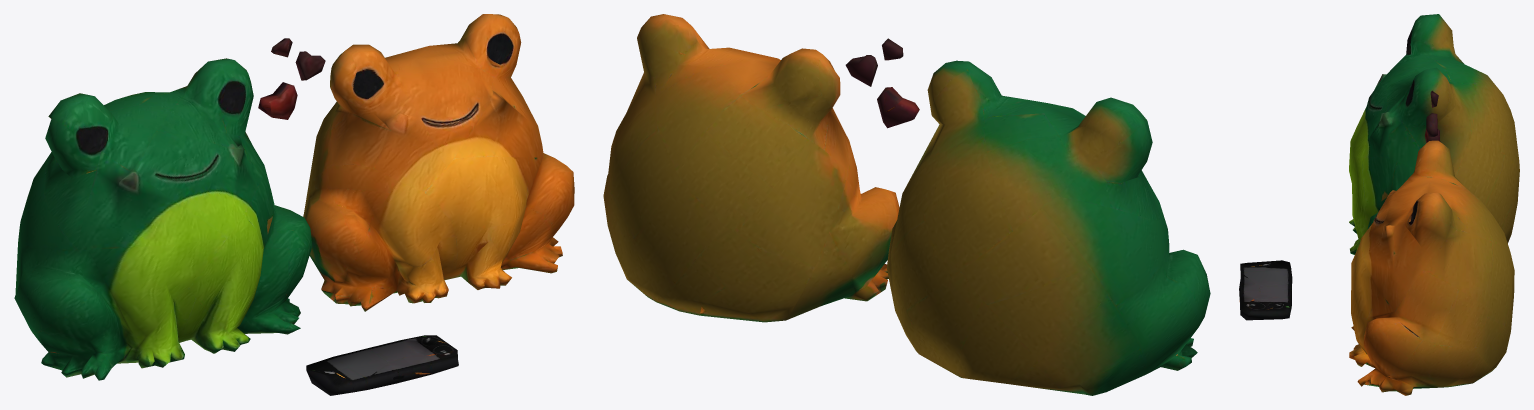
The model's file is duo.glb.
3 views of the same model, side by side, from view 1: azimuth 30°, elevation 25°; view 2: azimuth 150°, elevation 25°; view 3: azimuth 270°, elevation 25° (orthographic). The views are drawn at different scales.
Visible parts, largest first — view 1: mesh_node; view 2: mesh_node; view 3: mesh_node.
Boxes of the visible parts, <box> form: mesh_node: <box>14,14,574,395</box>; mesh_node: <box>603,14,1210,395</box>; mesh_node: <box>1239,14,1519,395</box>.
Size of the model in its own units: 1.89 by 0.8656 by 1.07.
Materials: 1 (1 with a texture image).
